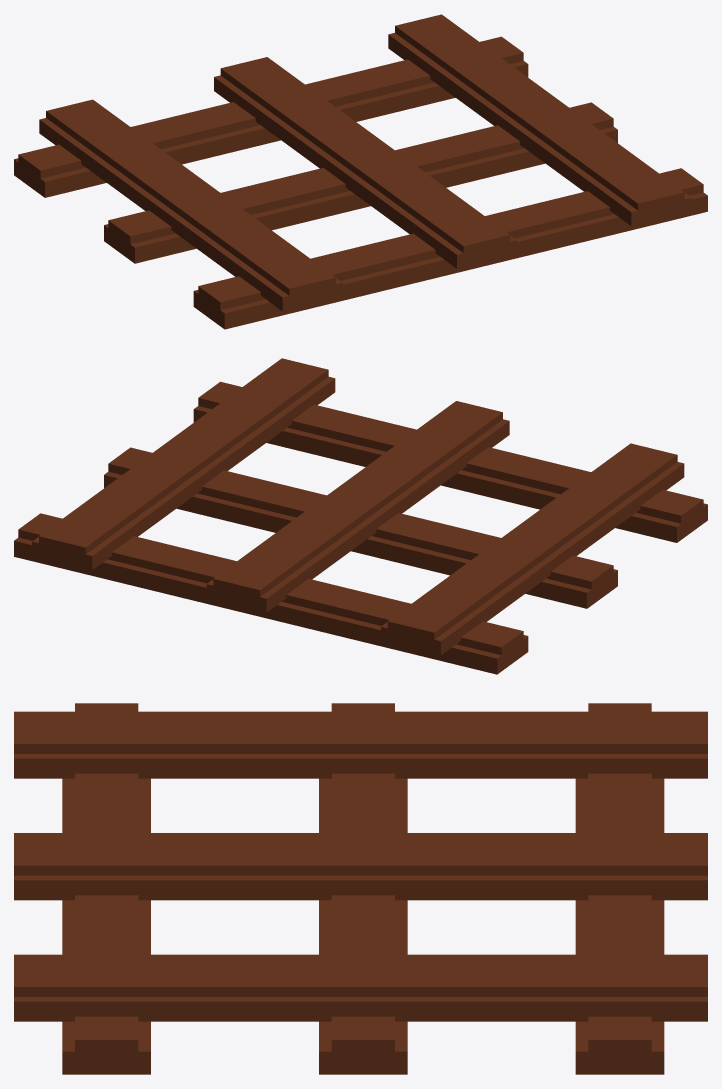
The model's file is palette.fbx.
3 renders of one model, top to bottom at view 1: azimuth 30°, elevation 25°; view 2: azimuth 150°, elevation 25°; view 3: azimuth 270°, elevation 25°, orthographic. The views are drawn at different scales.
Parts seen in each view (by area): view 1: Cube.003, Cube.002; view 2: Cube.003, Cube.002; view 3: Cube.003, Cube.002.
Part boxes in pixels (x1=…): Cube.003: x1=39, y1=14, x2=691, y2=311; Cube.002: x1=14, y1=36, x2=707, y2=329; Cube.003: x1=32, y1=358, x2=684, y2=655; Cube.002: x1=14, y1=381, x2=707, y2=674; Cube.003: x1=14, y1=711, x2=707, y2=1021; Cube.002: x1=62, y1=703, x2=664, y2=1074.
Size of the model in its own units: 1627 by 134 by 1417.
